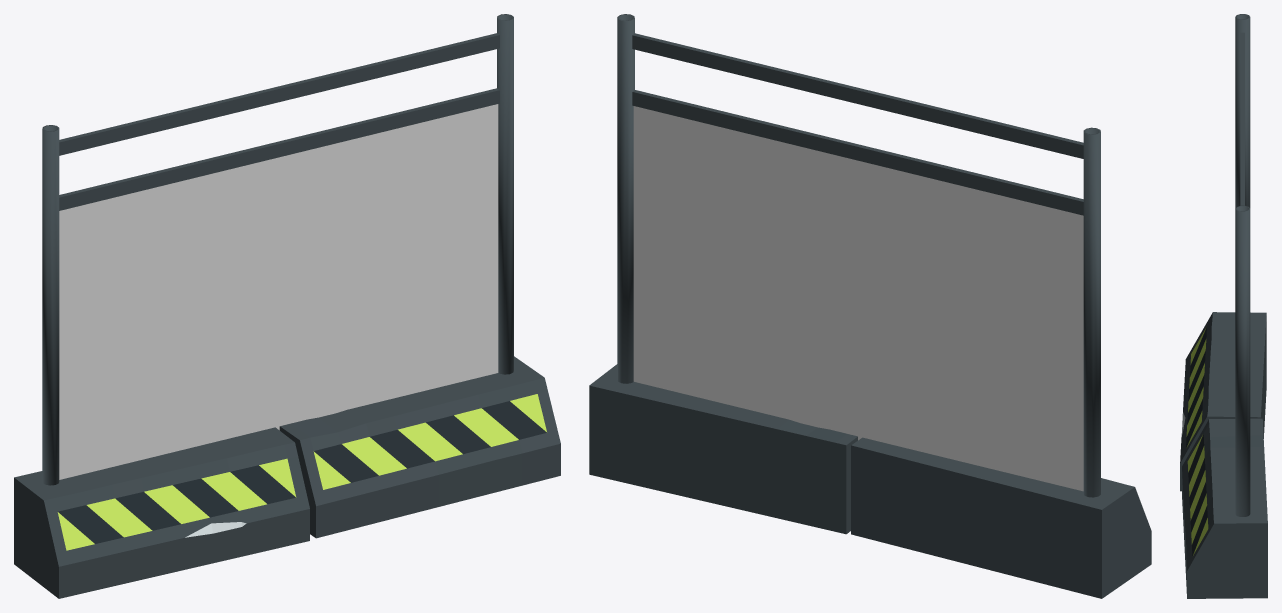
The model's file is tactical-barrier.glb.
3 renders of one model, left to right at view 1: azimuth 30°, elevation 25°; view 2: azimuth 150°, elevation 25°; view 3: azimuth 270°, elevation 25°, orthographic. The views are drawn at different scales.
Visible parts, largest first — view 1: Barrier_Large.001; view 2: Barrier_Large.001; view 3: Barrier_Large.001.
Part boxes in pixels (x1,y1,x2,y2): Barrier_Large.001: [14, 14, 560, 598]; Barrier_Large.001: [589, 14, 1151, 598]; Barrier_Large.001: [1180, 14, 1267, 598].
Size of the model in its own units: 3.81 by 3.18 by 0.6666.
